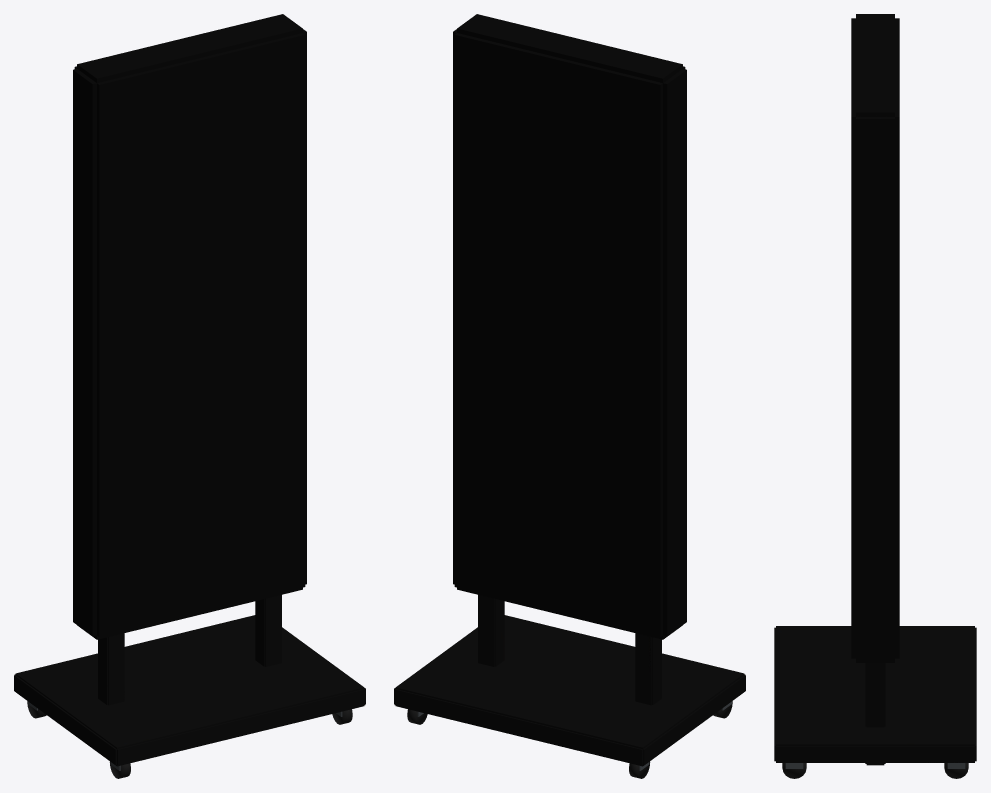
File: obj_rubber_stand.glb
The picture shows the model from 3 angles, left to right: view 1: azimuth 30°, elevation 25°; view 2: azimuth 150°, elevation 25°; view 3: azimuth 270°, elevation 25°; orthographic projection.
Parts seen in each view (by area): view 1: rubber_stand_body; view 2: rubber_stand_body; view 3: rubber_stand_body.
Boxes of the visible parts, <box> form: rubber_stand_body: <box>14,14,365,770</box>; rubber_stand_body: <box>394,14,745,770</box>; rubber_stand_body: <box>774,14,976,768</box>.
Size of the model in its own units: 0.7 by 1.8 by 0.5.
2 materials, 1 textured.
